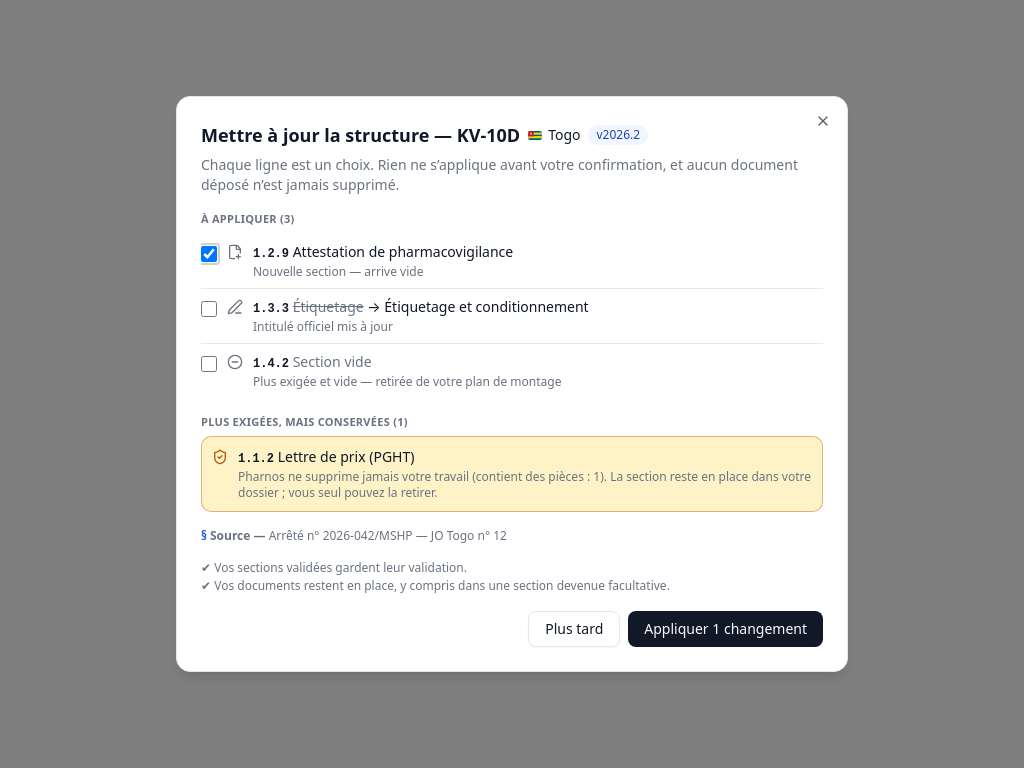
StructureMergeDialog › seul l’AJOUT est coché à l’ouverture ; le compteur suit les cases
expect the button "Appliquer 1 changement" is shown: met, box [628,611,823,647]
Click the 3rd checkbox: [209, 364] box [201,356,217,372]
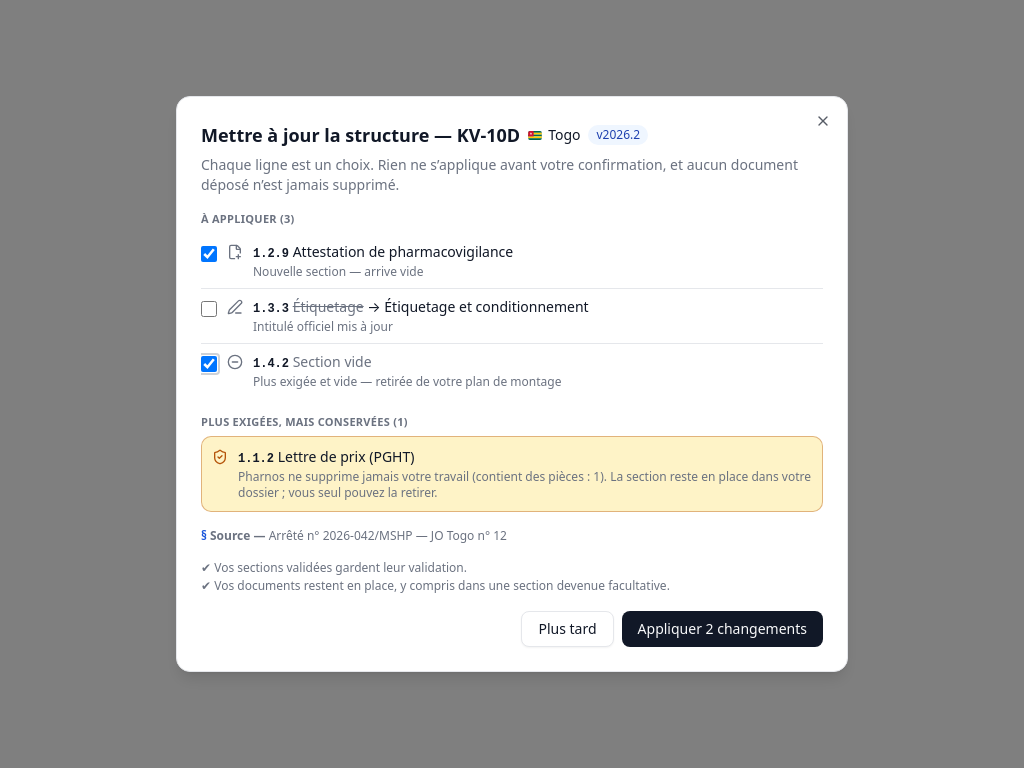
expect the button "Appliquer 2 changements" is shown: met, box [622,611,823,647]
